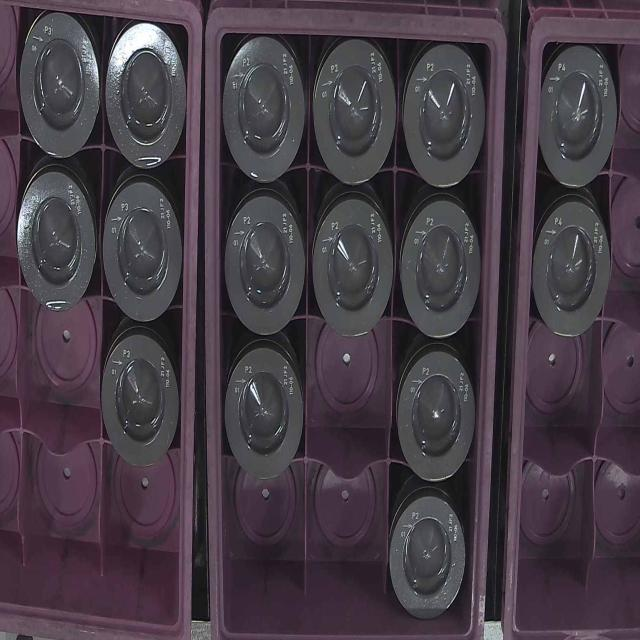P2: (222, 36, 300, 184), (312, 43, 394, 182), (402, 199, 478, 343), (314, 198, 393, 334), (226, 195, 303, 334), (397, 348, 475, 484), (405, 49, 482, 186), (224, 346, 301, 480), (392, 494, 467, 620)
P3: (107, 28, 185, 171), (18, 18, 100, 154), (103, 177, 181, 318), (101, 332, 180, 465), (18, 171, 96, 305)
P4: (541, 48, 616, 185), (533, 204, 607, 332)
